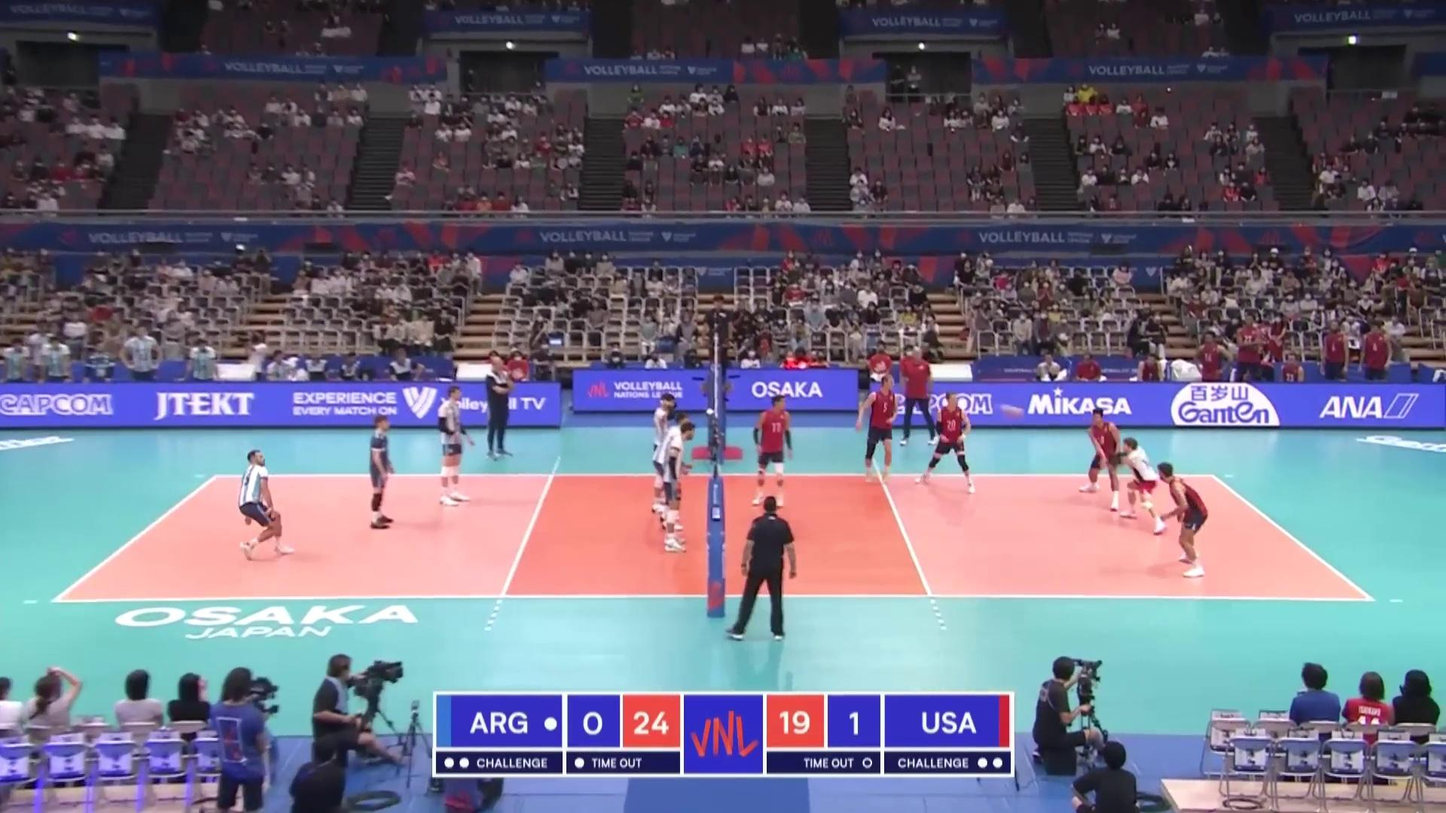player: (1152, 461, 1208, 584), (236, 449, 294, 559), (916, 392, 977, 491), (1107, 438, 1167, 534), (753, 393, 795, 507), (857, 377, 900, 485), (1079, 409, 1123, 510), (653, 413, 691, 529), (435, 385, 472, 504), (662, 421, 695, 550), (364, 415, 394, 527), (651, 393, 677, 511)
refree: (734, 497, 802, 639), (702, 295, 734, 389)
